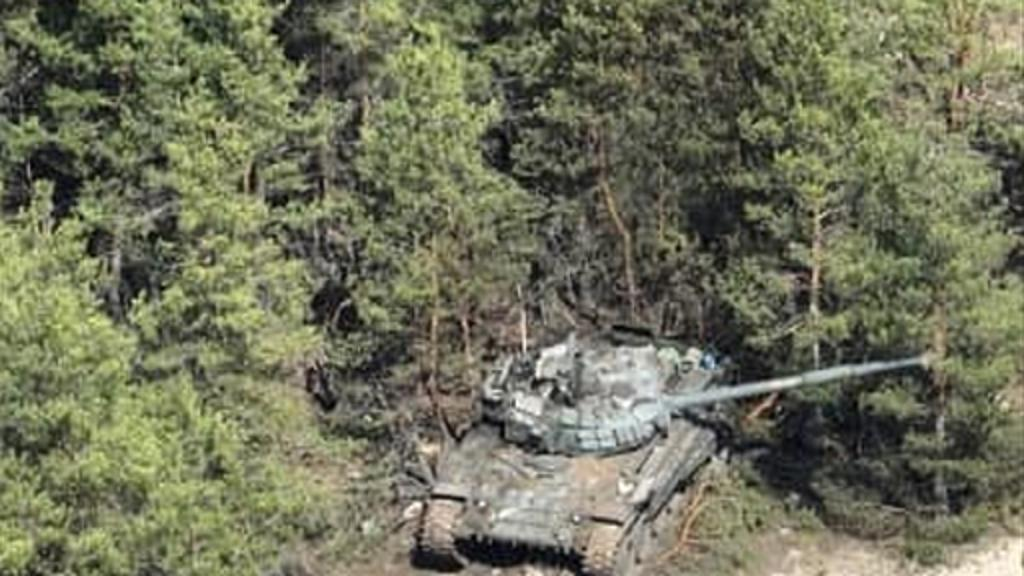TANK: (410, 328, 944, 574)
